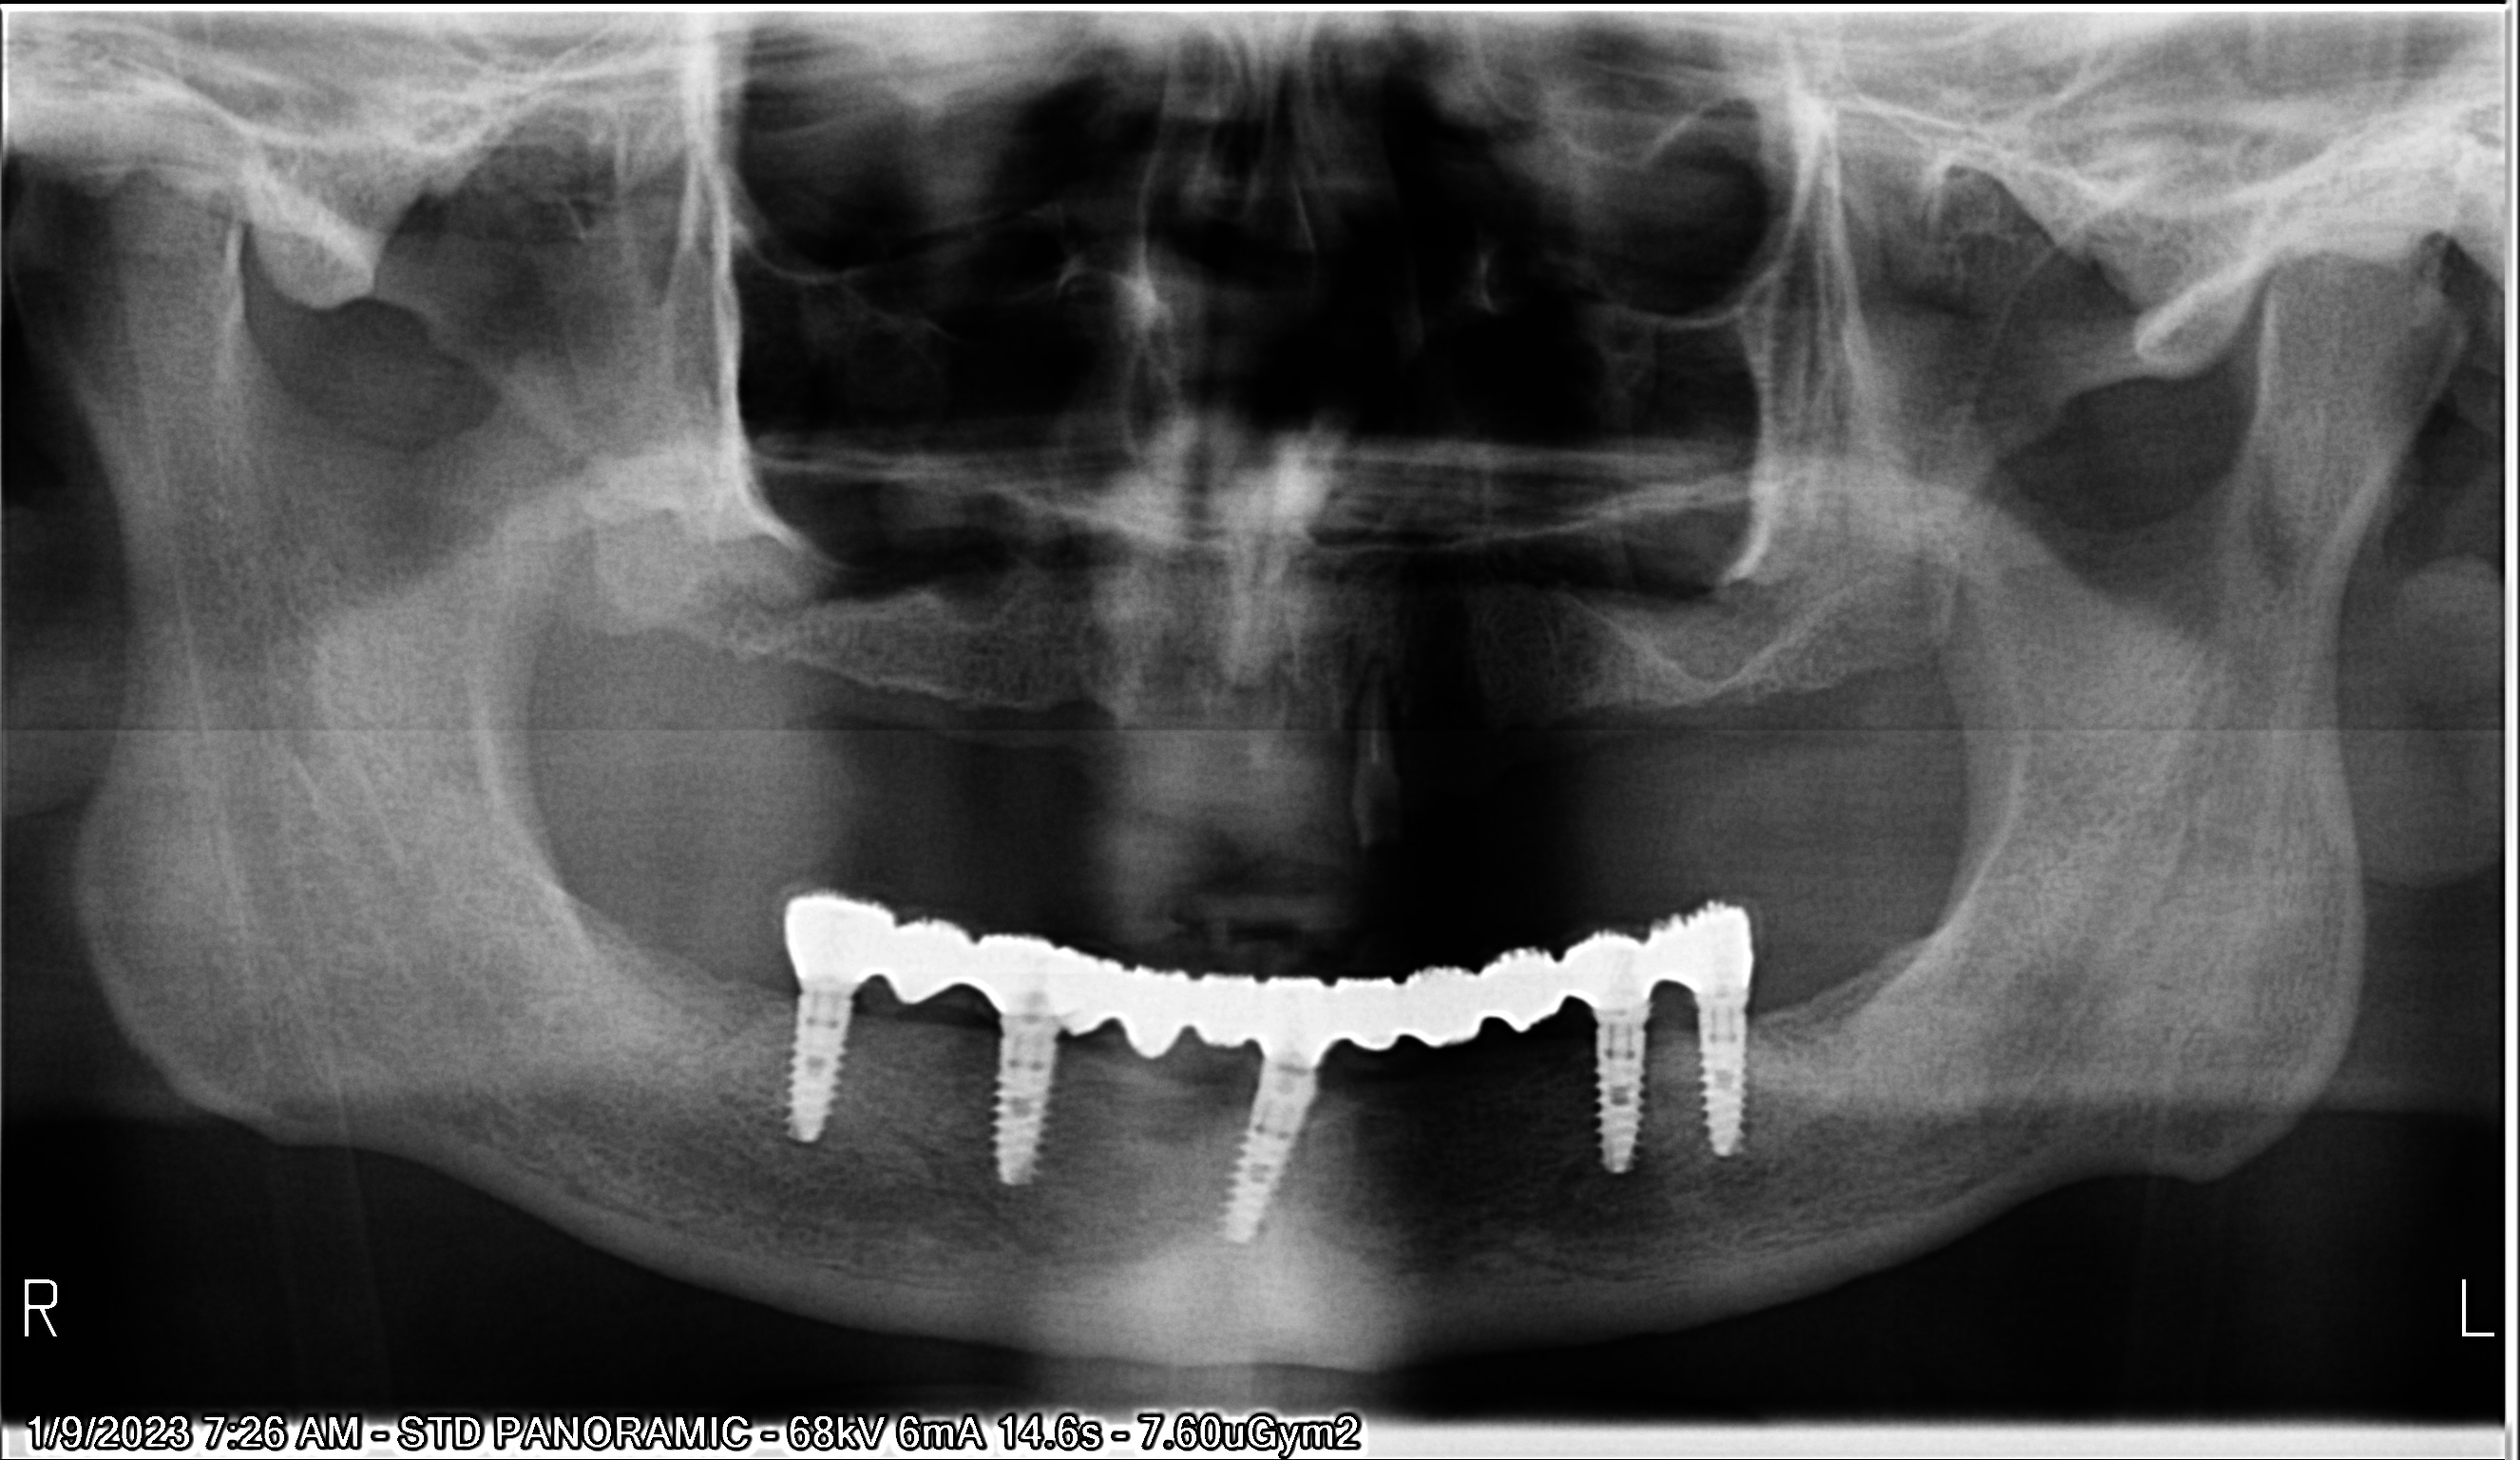IMP: (731, 859, 1846, 1038), (966, 1013, 1125, 1236), (1198, 1048, 1349, 1271), (752, 987, 891, 1166), (1560, 1006, 1664, 1206), (1671, 999, 1789, 1171)
ROT: (1303, 617, 1447, 876)
